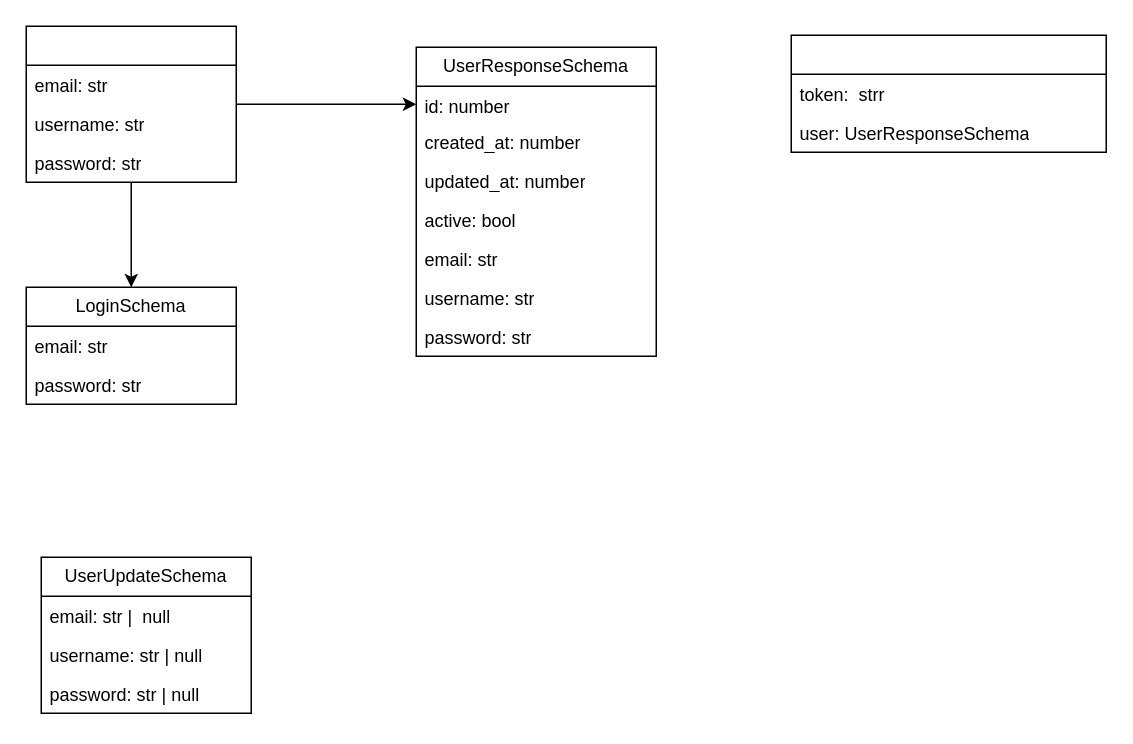
This 1133x744 diagram has some shape labels left out. The shapes that lost their labels are listed below. From the top down, each one's box as (x1, y1, x2, y2) in pixels, then its label:
(25, 25, 236, 182): UserCreateSchema
(790, 34, 1106, 152): AuthSchema
